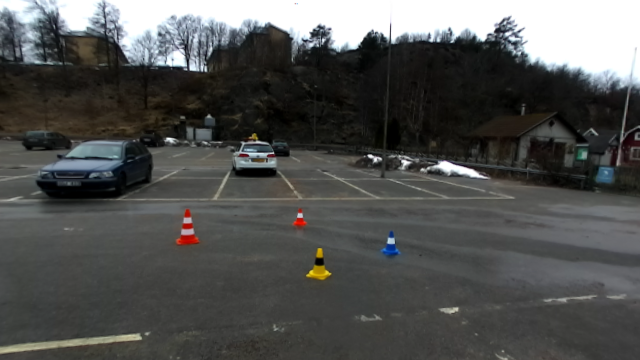blue: (379, 229, 401, 259)
orange: (292, 206, 307, 226)
orange2: (174, 207, 202, 247)
yellow: (304, 245, 331, 284)
